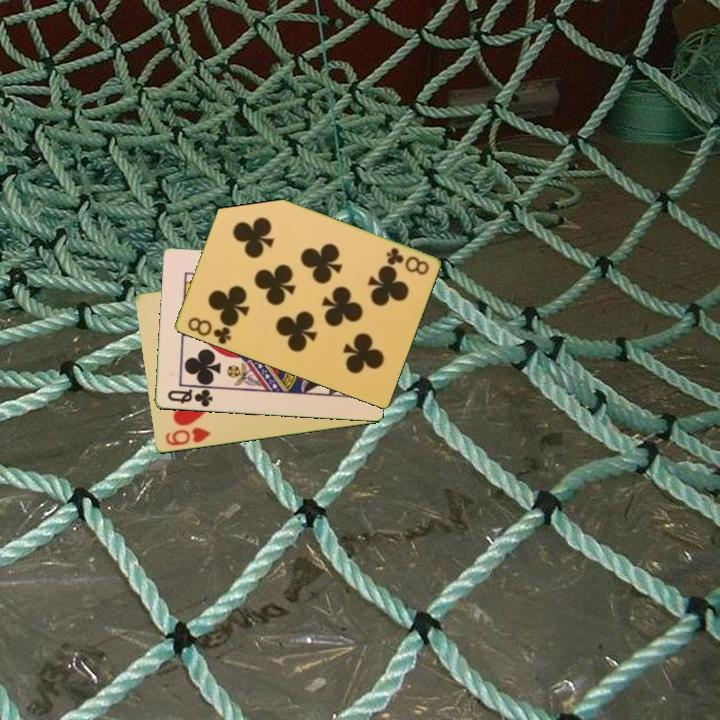6h: (162, 424, 213, 449)
8c: (184, 313, 234, 347), (382, 244, 432, 278)
Qc: (164, 386, 215, 410)
